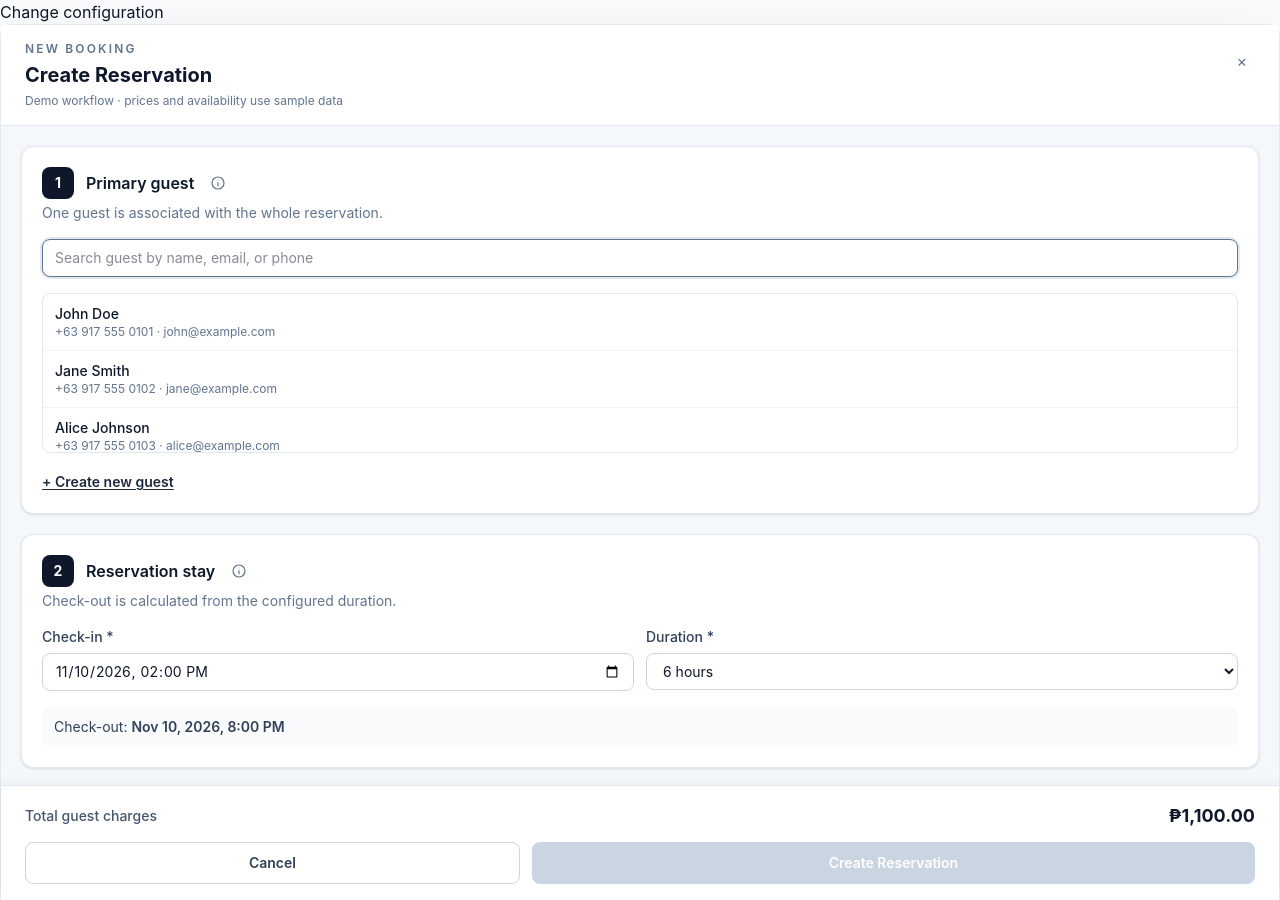
Test: contextual discount application › warns and blocks saving an incompatible duration until the discount is removed
The image size is (1280, 900).
Click the button "John Doe +63 917 555 0101 · john@example.com".
click(87, 314)  # box [43,294,1237,350]
(page scrolled)
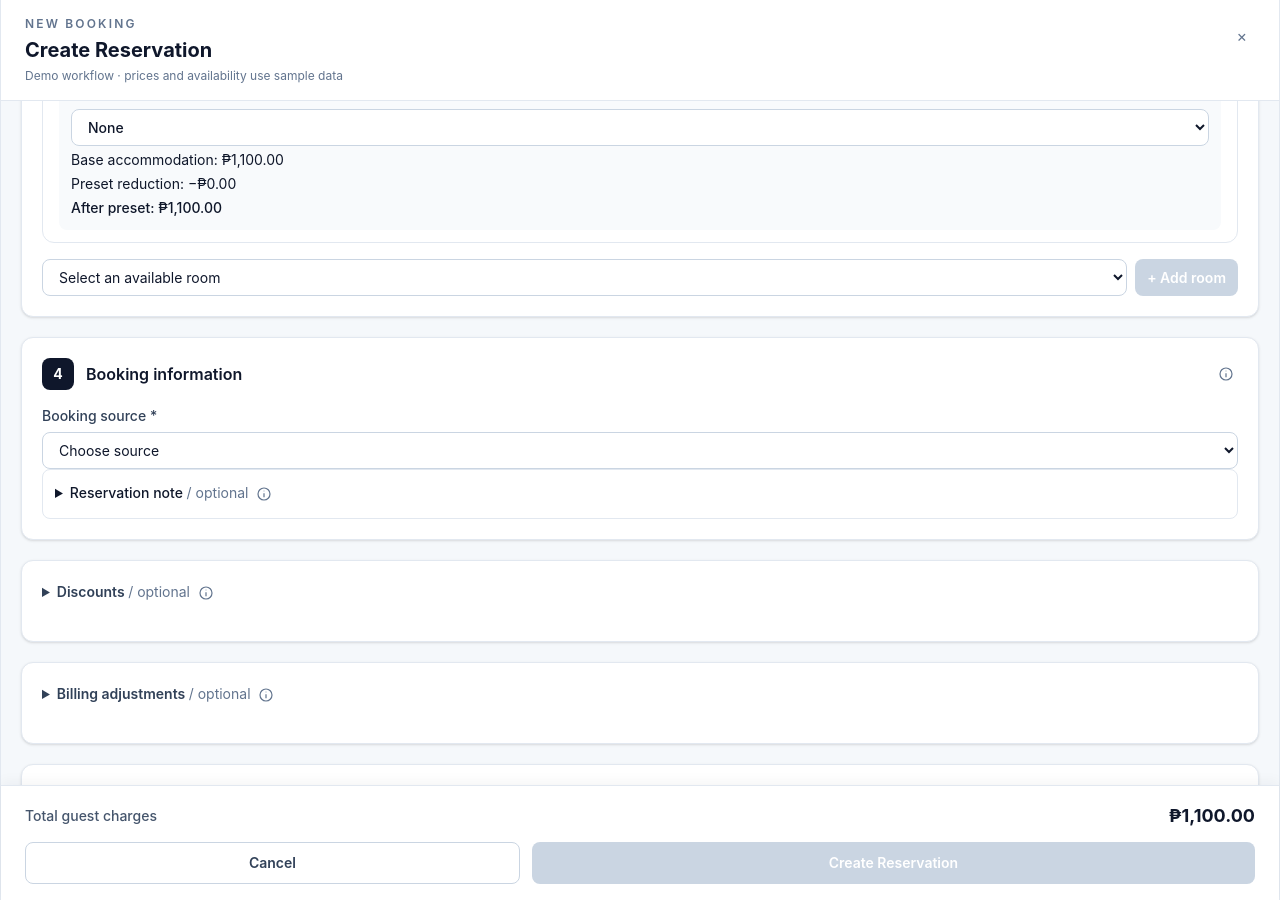
Select "Direct" in the dropdown labelled "Booking source *" at [640, 450], box [42,432,1238,469]
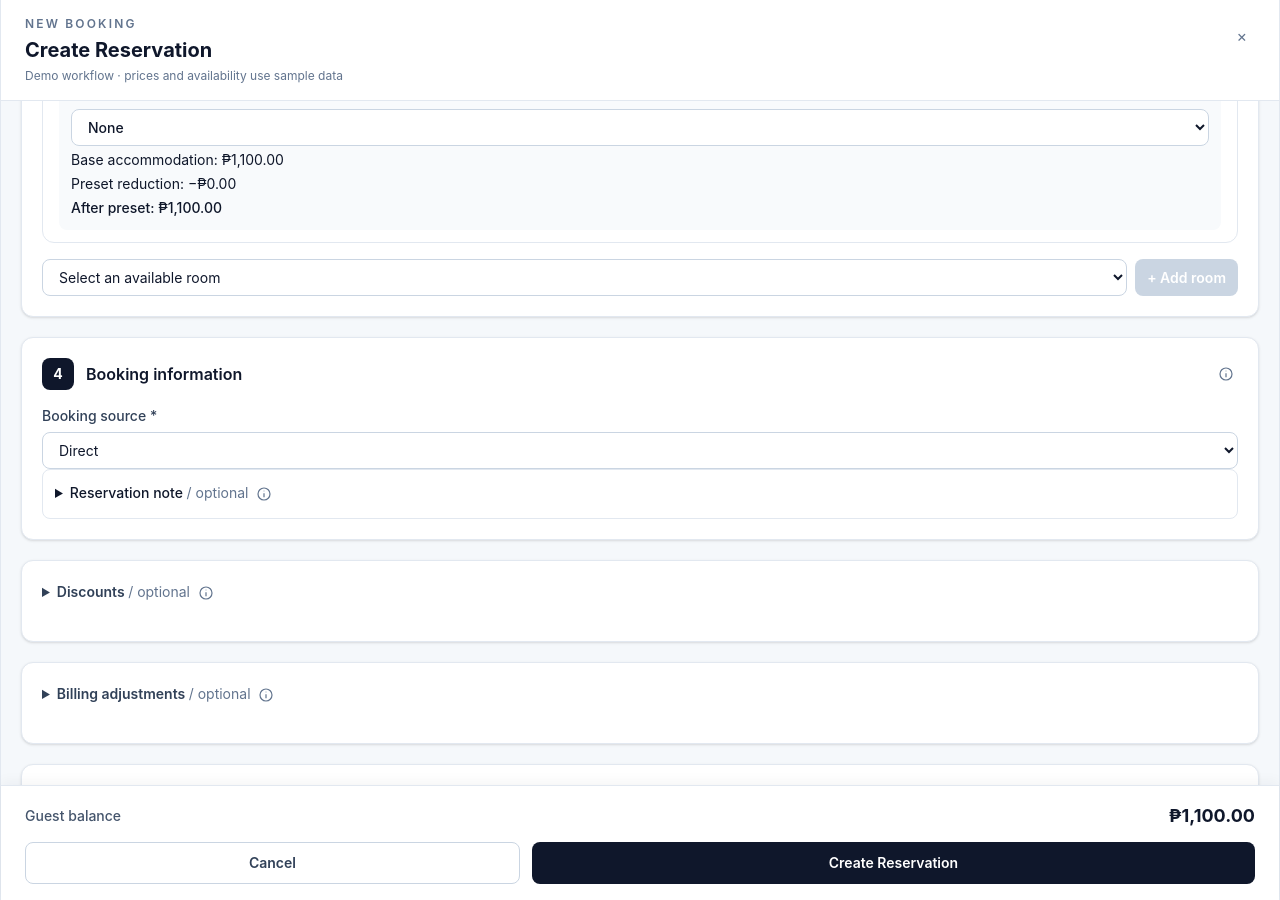
Select "Standard Special Rate" in the dropdown labelled "Room 101 discount" at [640, 128], box [71,109,1209,146]
(page scrolled)
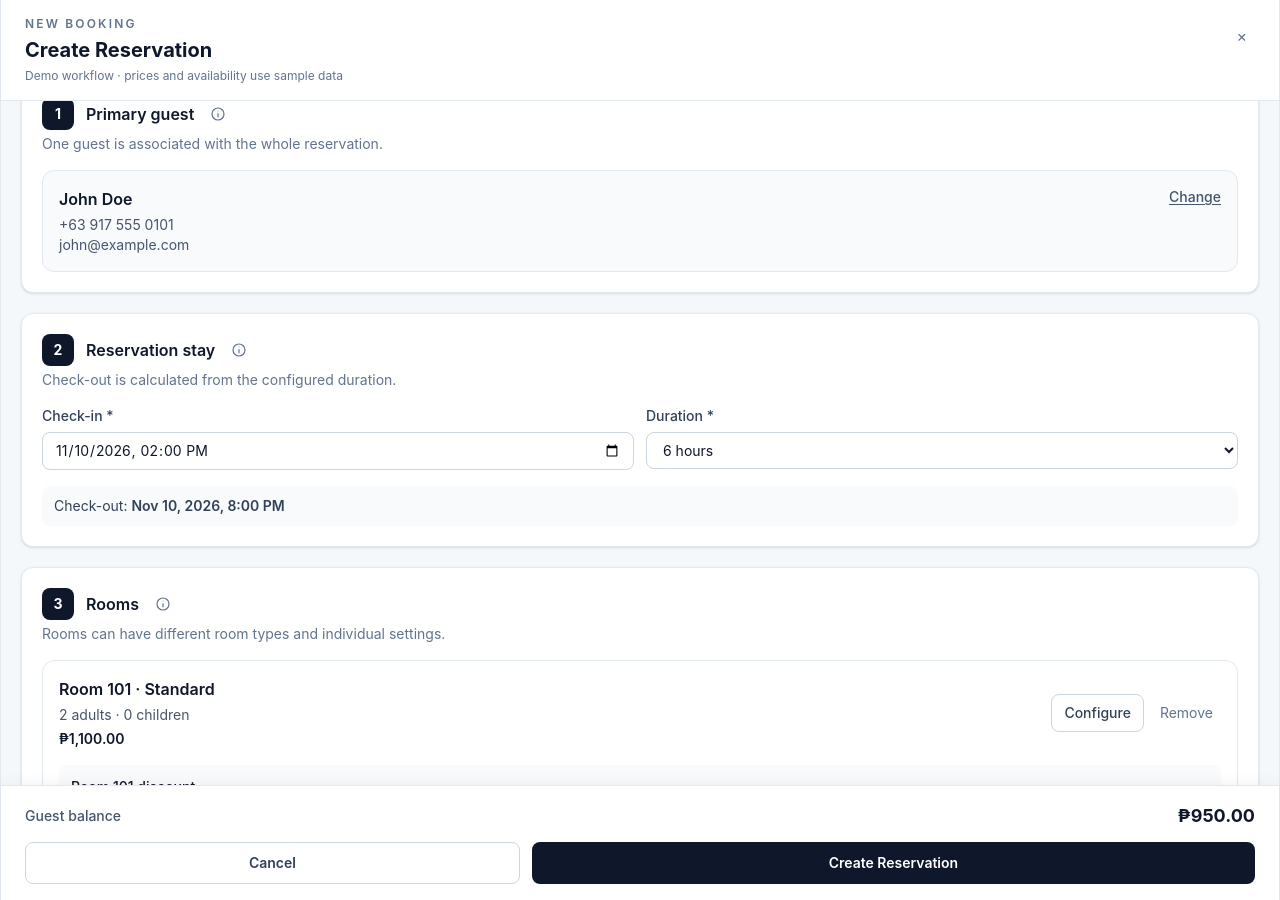
Select "8 hours" in the dropdown labelled "Duration *" at [942, 450], box [646,432,1238,469]
(page scrolled)
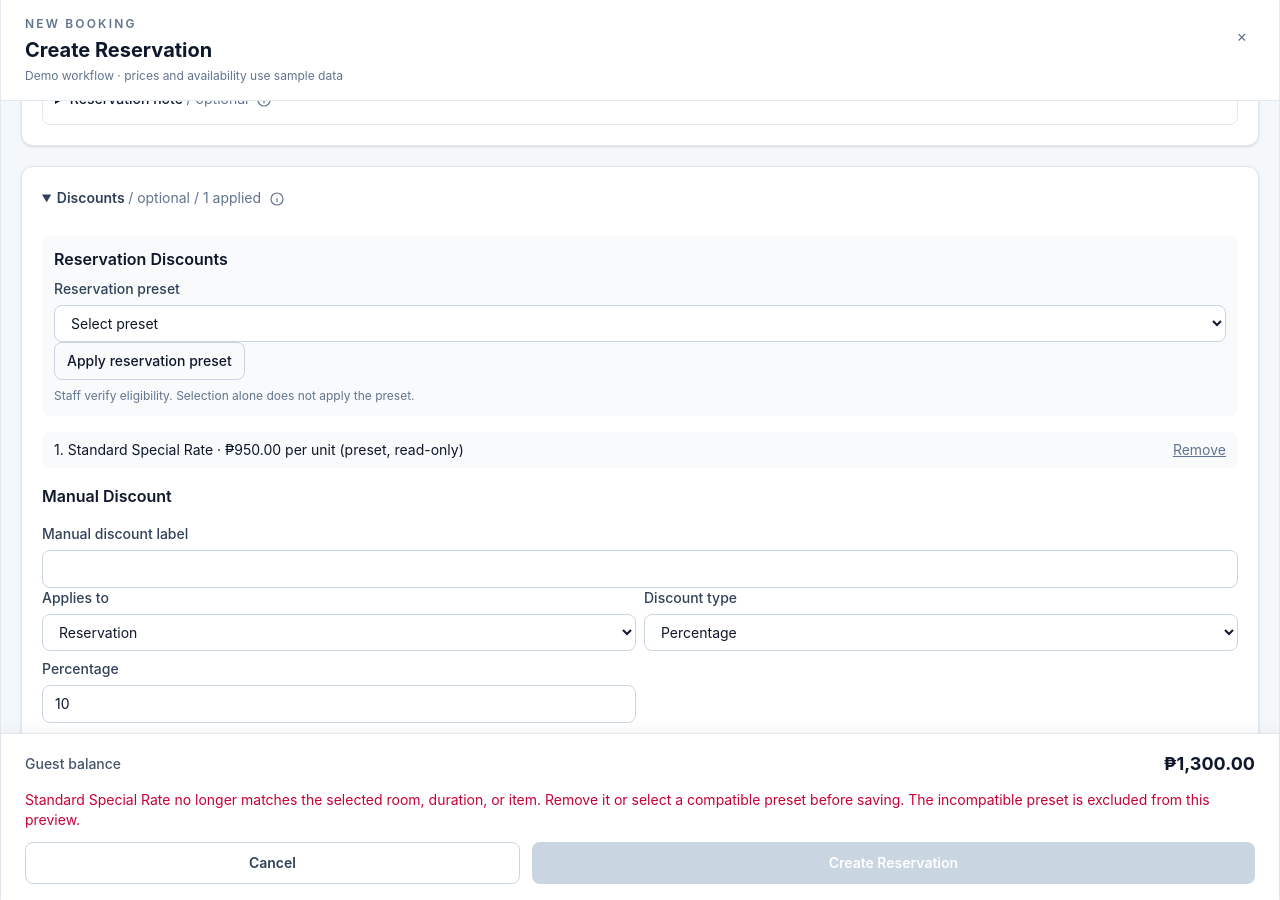
Result: the message shows "no longer matches" at [25,791,1210,828]
Result: the button "Create Reservation" is disabled at [532,842,1255,884]
Click the button with aria-label "Remove Standard Special Rate".
click(1199, 450)  # box [1173,440,1226,460]
(page scrolled)
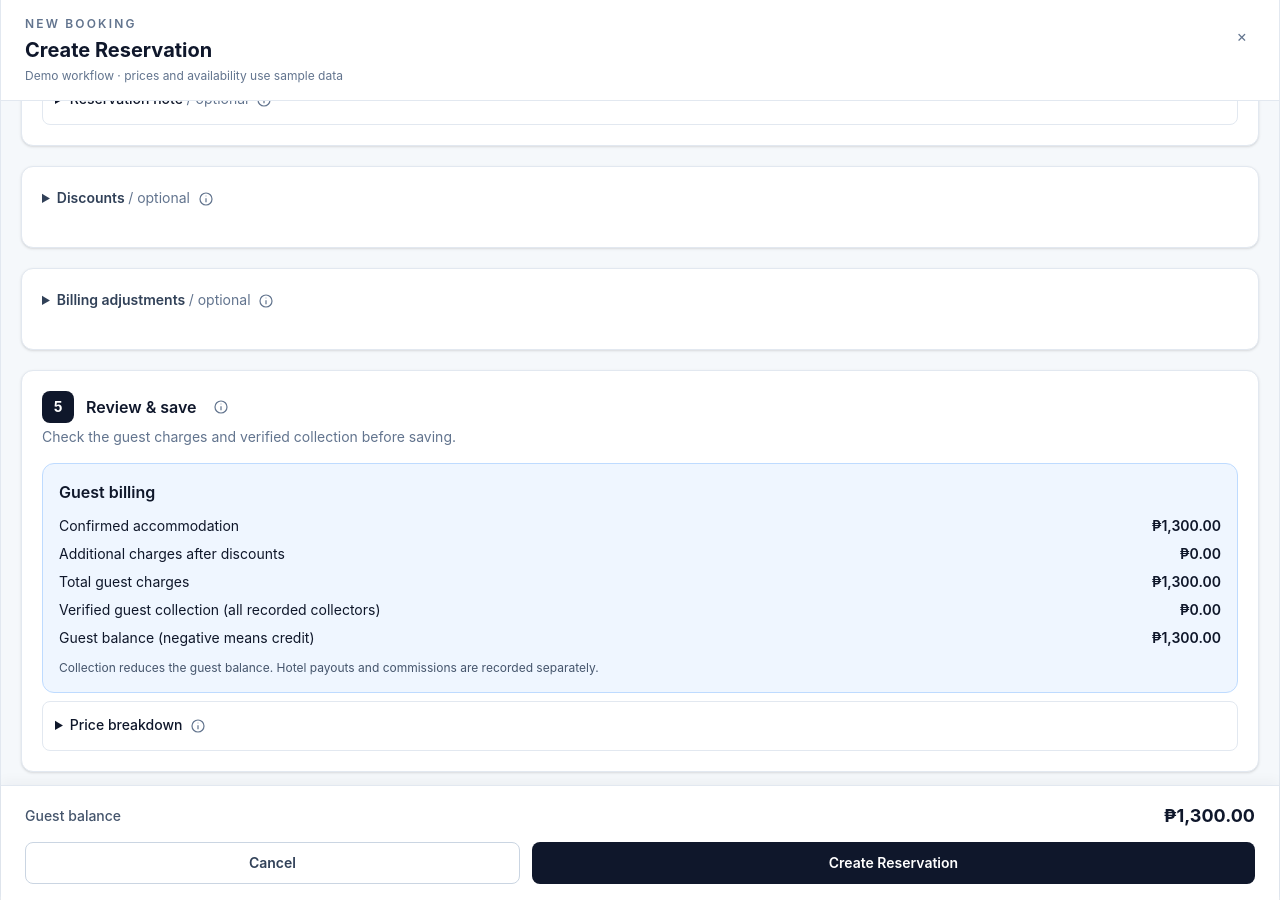
Result: the message is gone
Result: the button "Create Reservation" is enabled at [532,842,1255,884]
